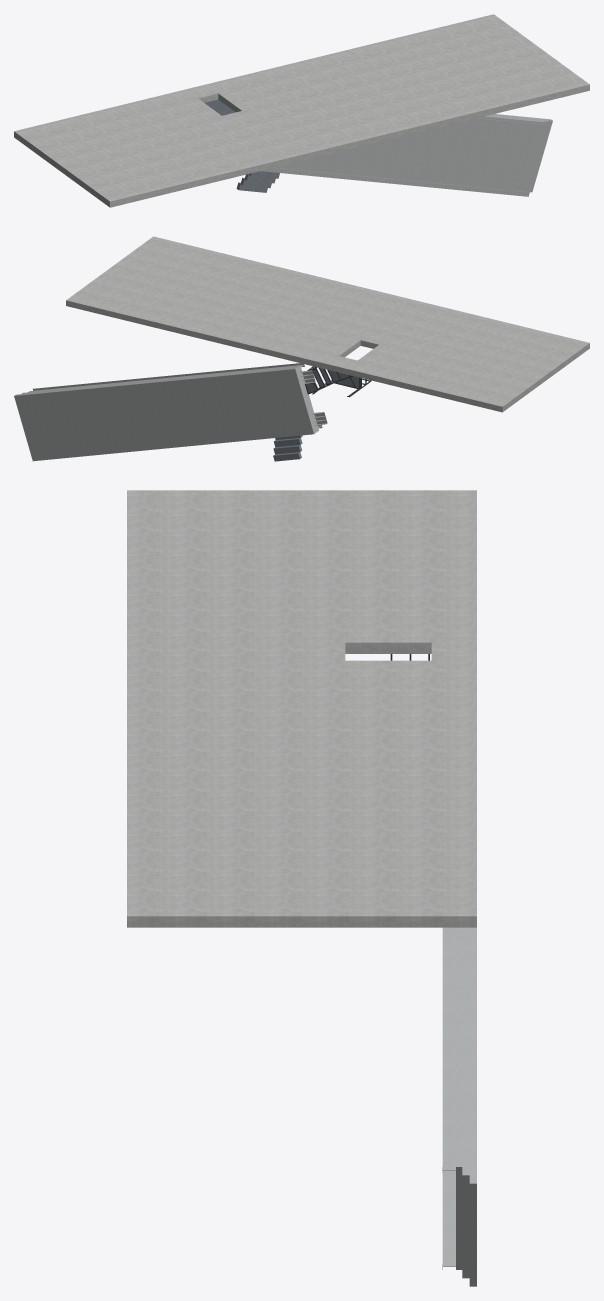
The model's file is escalera-bascula-mwswzrjg.glb.
3 renders of one model, top to bottom at view 1: azimuth 30°, elevation 25°; view 2: azimuth 150°, elevation 25°; view 3: azimuth 270°, elevation 25°, orthographic. The views are drawn at different scales.
Parts seen in each view (by area): view 1: edifi, bascula; view 2: edifi, bascula; view 3: edifi, bascula.
Boxes of the visible parts, bbox=[...] form: edifi: bbox=[14, 14, 589, 207]; bascula: bbox=[235, 112, 552, 196]; edifi: bbox=[66, 236, 589, 412]; bascula: bbox=[14, 363, 327, 461]; edifi: bbox=[127, 490, 476, 927]; bascula: bbox=[442, 927, 476, 1286].
Size of the model in its own units: 27.42 by 9.06 by 8.5.
6 materials, 6 textured.
